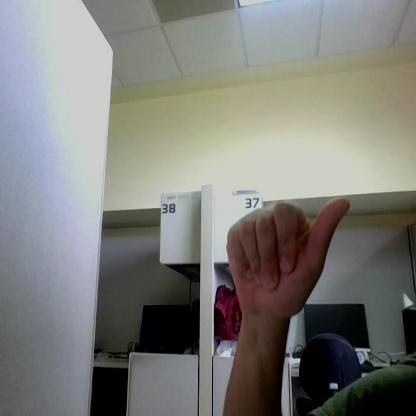A: (226, 195, 350, 308)
